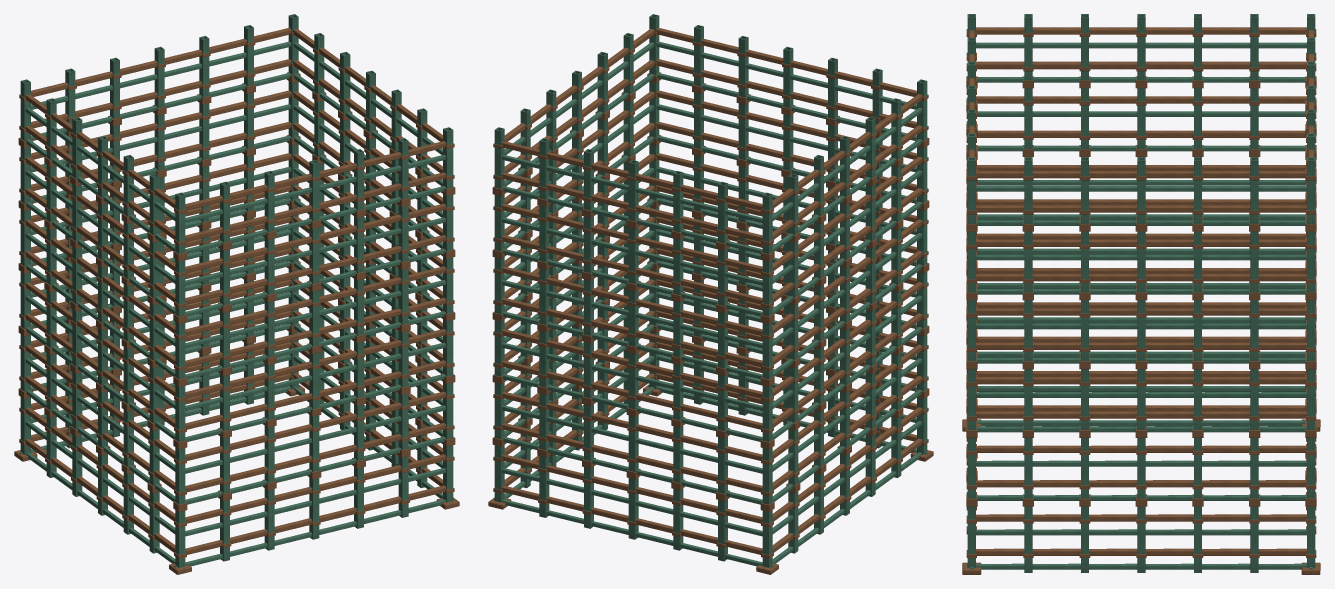
The picture shows the model from 3 angles, left to right: view 1: azimuth 30°, elevation 25°; view 2: azimuth 150°, elevation 25°; view 3: azimuth 270°, elevation 25°; orthographic projection. The views are drawn at different scales.
Visible parts, largest first — view 1: Tier 5 side 0 post 0, Tier 5 side 2 post 2, Tier 5 side 2 post 3, Tier 5 side 0 post 2, Tier 5 side 0 post 3; view 2: Tier 5 side 3 post 0, Tier 5 side 2 post 4, Tier 5 side 0 post 3, Tier 5 side 0 post 4, Tier 5 side 2 post 3, Tier 5 side 2 post 0; view 3: Tier 5 side 1 post 1, Tier 5 side 1 post 3, Tier 5 side 1 post 5, Tier 5 side 1 post 0, Tier 5 side 2 post 0, Tier 0 side 1 post 1, Tier 0 side 1 post 3, Tier 0 side 1 post 5, Tier 5 side 3 post 1, Tier 5 side 3 post 3, Tier 5 side 3 post 5, Tier 2 side 1 post 1 (+30 smaller).
Part boxes in pixels (box(x1,y1,x2,y2)): Tier 5 side 0 post 0: box(175, 192, 185, 254); Tier 5 side 2 post 2: box(199, 36, 209, 97); Tier 5 side 2 post 3: box(154, 46, 164, 108); Tier 5 side 0 post 2: box(264, 171, 274, 232); Tier 5 side 0 post 3: box(309, 160, 319, 221); Tier 5 side 3 post 0: box(762, 192, 772, 254); Tier 5 side 2 post 4: box(673, 171, 683, 232); Tier 5 side 0 post 3: box(783, 46, 793, 108); Tier 5 side 0 post 4: box(738, 36, 748, 97); Tier 5 side 2 post 3: box(628, 160, 638, 221); Tier 5 side 2 post 0: box(494, 127, 504, 188); Tier 5 side 1 post 1: box(1024, 157, 1032, 223); Tier 5 side 1 post 3: box(1137, 157, 1145, 223); Tier 5 side 1 post 5: box(1250, 157, 1258, 223); Tier 5 side 1 post 0: box(967, 157, 975, 223); Tier 5 side 2 post 0: box(1307, 157, 1315, 223); Tier 0 side 1 post 1: box(1024, 506, 1032, 572); Tier 0 side 1 post 3: box(1137, 506, 1145, 572); Tier 0 side 1 post 5: box(1250, 506, 1258, 572); Tier 5 side 3 post 1: box(1250, 14, 1258, 80); Tier 5 side 3 post 3: box(1137, 14, 1145, 80); Tier 5 side 3 post 5: box(1024, 14, 1032, 80); Tier 2 side 1 post 1: box(1024, 369, 1032, 429).
Bounding box in the file's own units: 2.85 × 3.62 × 2.85.
2 materials, 2 textured.
